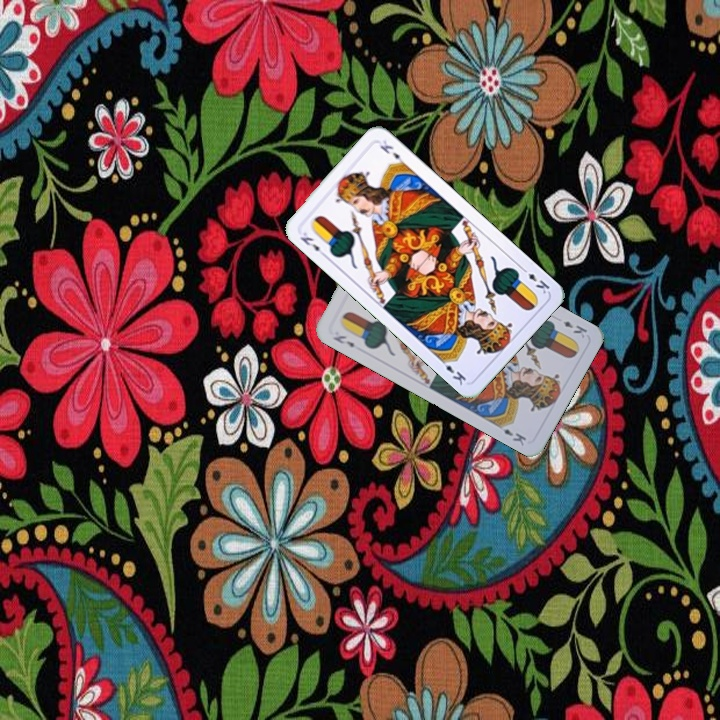EK: (517, 263, 552, 296), (296, 228, 329, 259), (559, 317, 590, 341), (329, 331, 357, 350)
